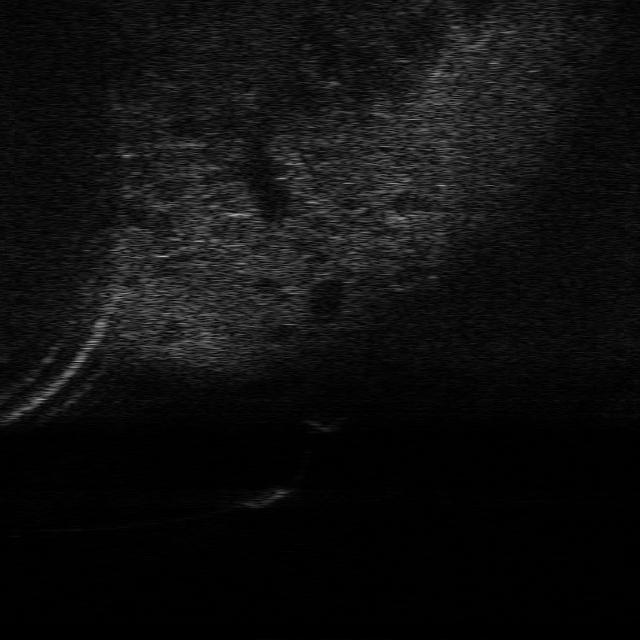cube: (304, 410, 350, 434)
cylinder: (242, 486, 292, 508)
